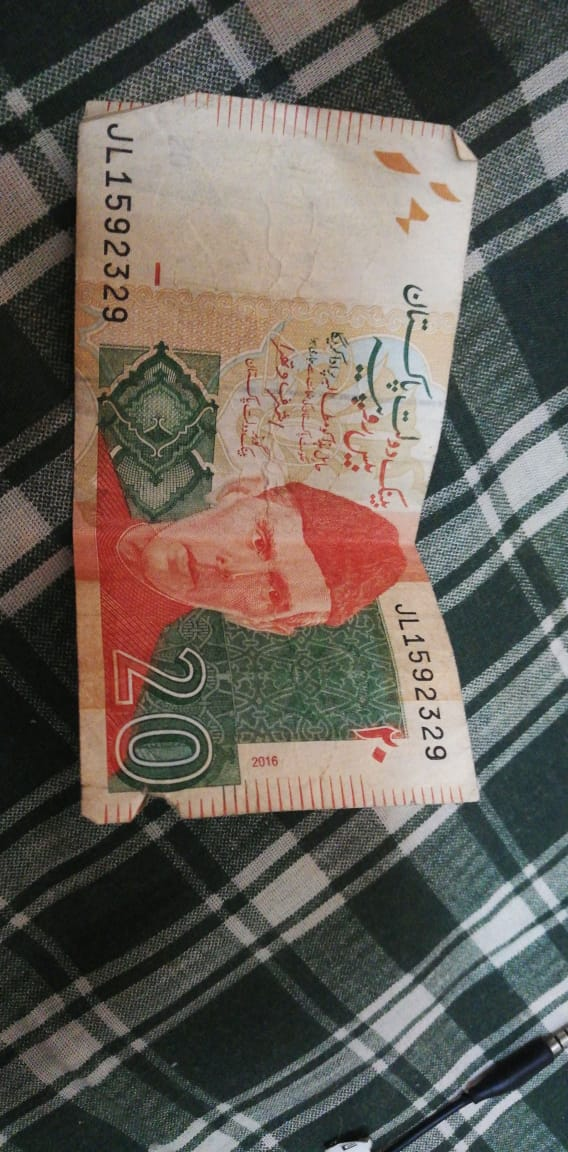20 rupee: (44, 71, 500, 843)
